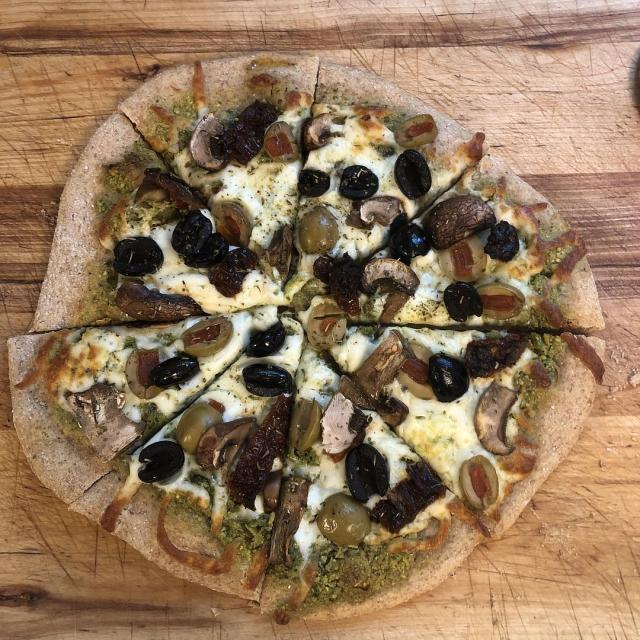black_olives: (212, 99, 270, 164), (344, 442, 388, 502), (111, 234, 165, 277), (135, 440, 185, 486), (427, 349, 465, 402), (236, 362, 295, 395), (152, 350, 201, 389), (441, 280, 483, 325), (393, 148, 427, 198), (387, 214, 426, 257), (172, 213, 207, 260), (337, 162, 377, 202), (244, 322, 288, 358), (188, 234, 228, 270), (484, 218, 516, 262), (300, 162, 329, 198)
mushrooms: (343, 330, 410, 426), (61, 386, 142, 465), (197, 416, 240, 530), (112, 279, 204, 329), (422, 194, 490, 251), (267, 475, 312, 560), (320, 388, 370, 459), (356, 253, 426, 299), (476, 382, 520, 454), (185, 112, 225, 173), (354, 194, 404, 229), (297, 111, 335, 151)
pizza: (5, 53, 606, 626)
